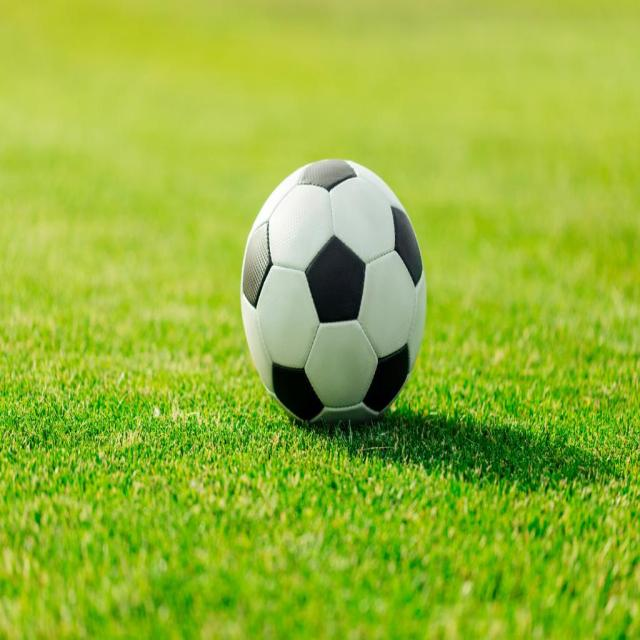ball: (239, 160, 426, 423)
